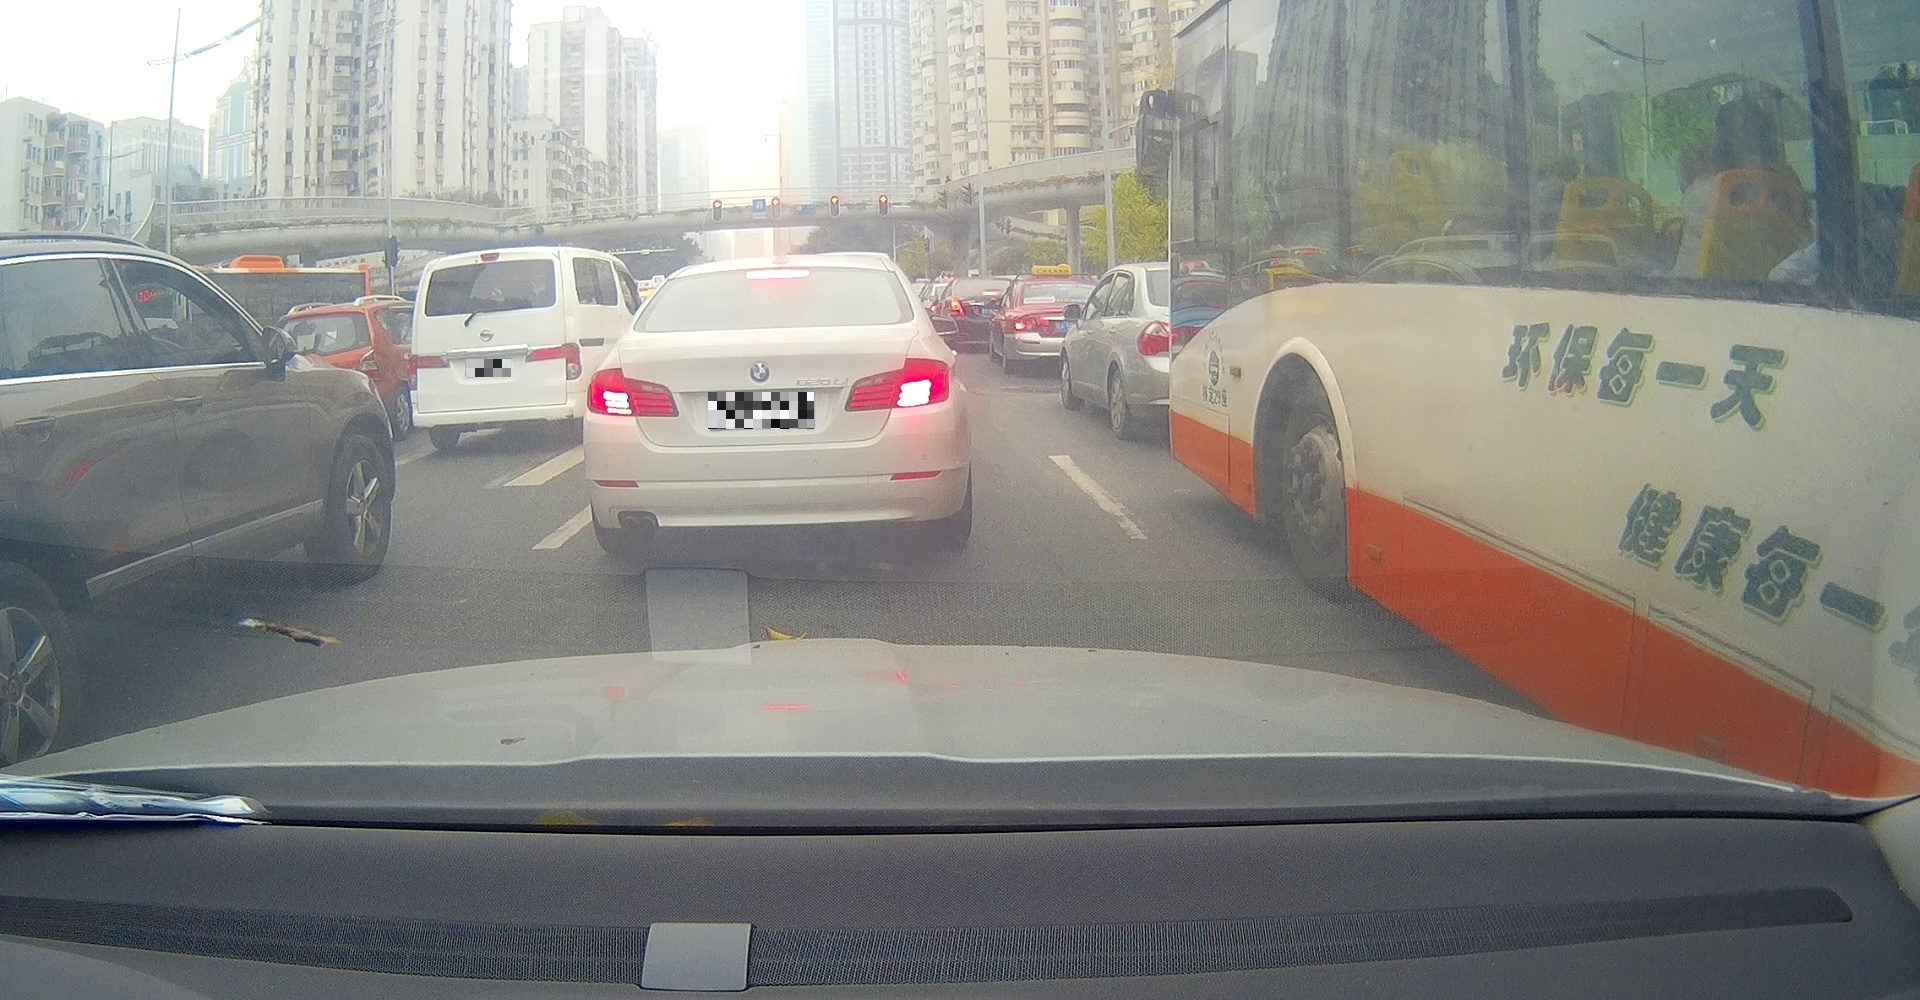L_light: (585, 367, 679, 418), (409, 354, 451, 391)
R_light: (844, 357, 949, 412), (526, 341, 582, 379)
T_light: (745, 269, 810, 277), (480, 253, 500, 261)
day-brake: (585, 251, 970, 555), (408, 246, 584, 451)
plate_1: (466, 359, 510, 377)
plate_2: (709, 392, 814, 429)
